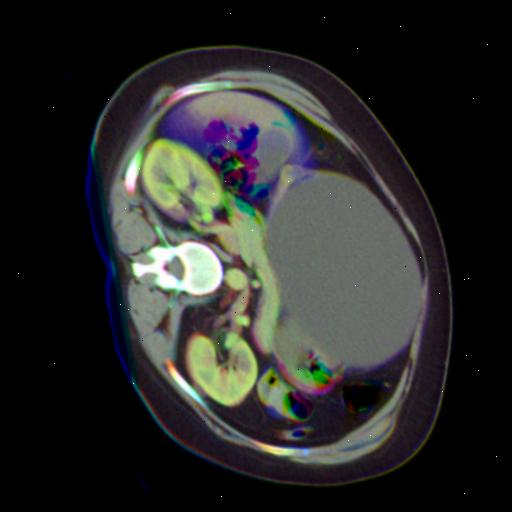Cyst: (261, 167, 418, 366)
